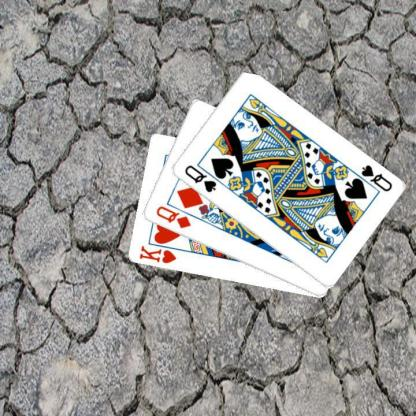KH: (136, 243, 178, 265)
QD: (153, 203, 192, 230)
QS: (182, 162, 218, 194), (358, 162, 393, 193)
